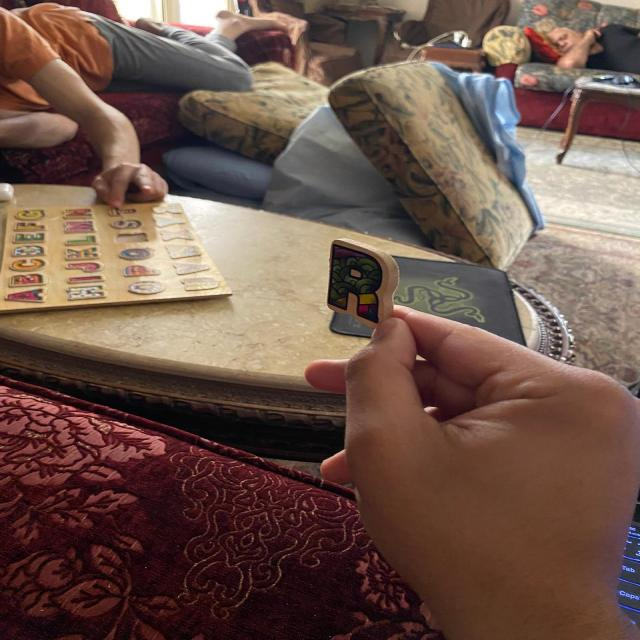R: (327, 239, 399, 329)
